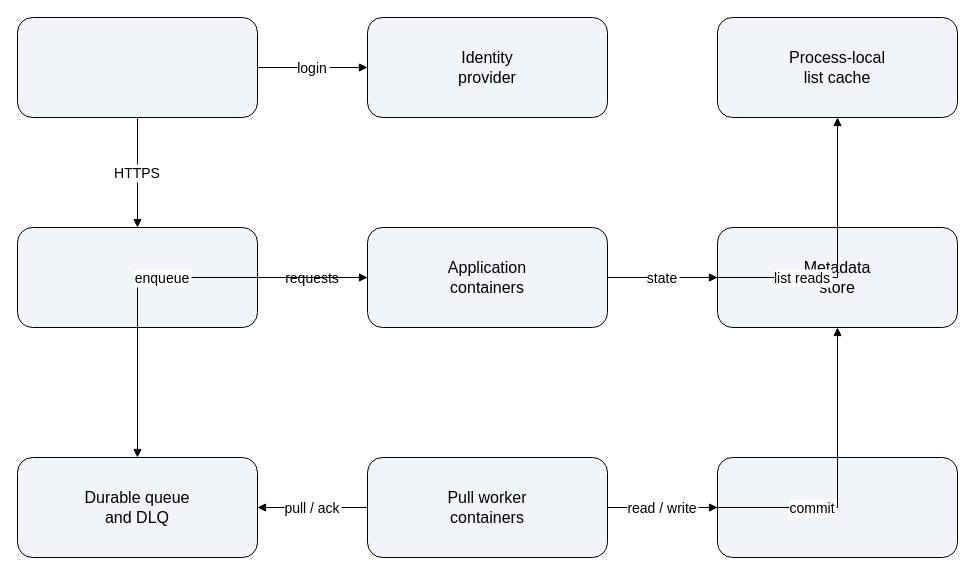
This 975x575 diagram has some shape labels left out. Here are the shapes that lost their labels. From the top down, the centre of each, then its label:
At pixel 137 67: "Browser client".
At pixel 137 277: "HTTPS load balancer".
At pixel 837 507: "Private object store".
